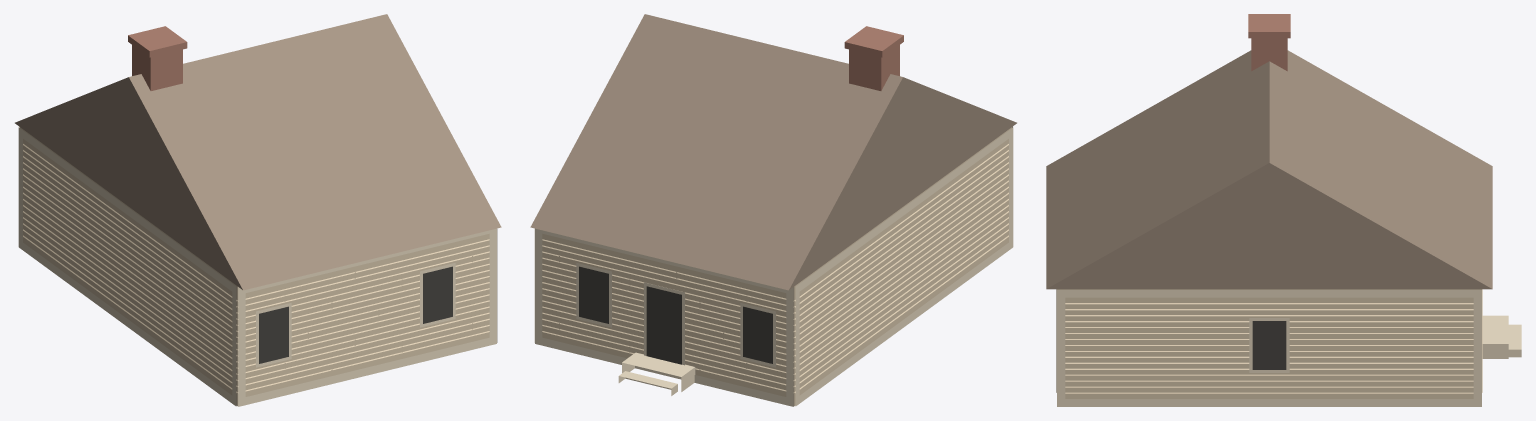
File: recon_1835_south_d5_016__inferred_1835.glb
The picture shows the model from 3 angles, left to right: view 1: azimuth 30°, elevation 25°; view 2: azimuth 150°, elevation 25°; view 3: azimuth 270°, elevation 25°; orthographic projection. The views are drawn at different scales.
Parts seen in each view (by area): view 1: recon_1835_south_d5_016__inferred_1835; view 2: recon_1835_south_d5_016__inferred_1835; view 3: recon_1835_south_d5_016__inferred_1835.
Boxes of the visible parts, <box> form: recon_1835_south_d5_016__inferred_1835: <box>15,14,501,406</box>; recon_1835_south_d5_016__inferred_1835: <box>530,14,1016,406</box>; recon_1835_south_d5_016__inferred_1835: <box>1046,14,1521,406</box>.
Size of the model in its own units: 6.8 by 6.99 by 10.99.
